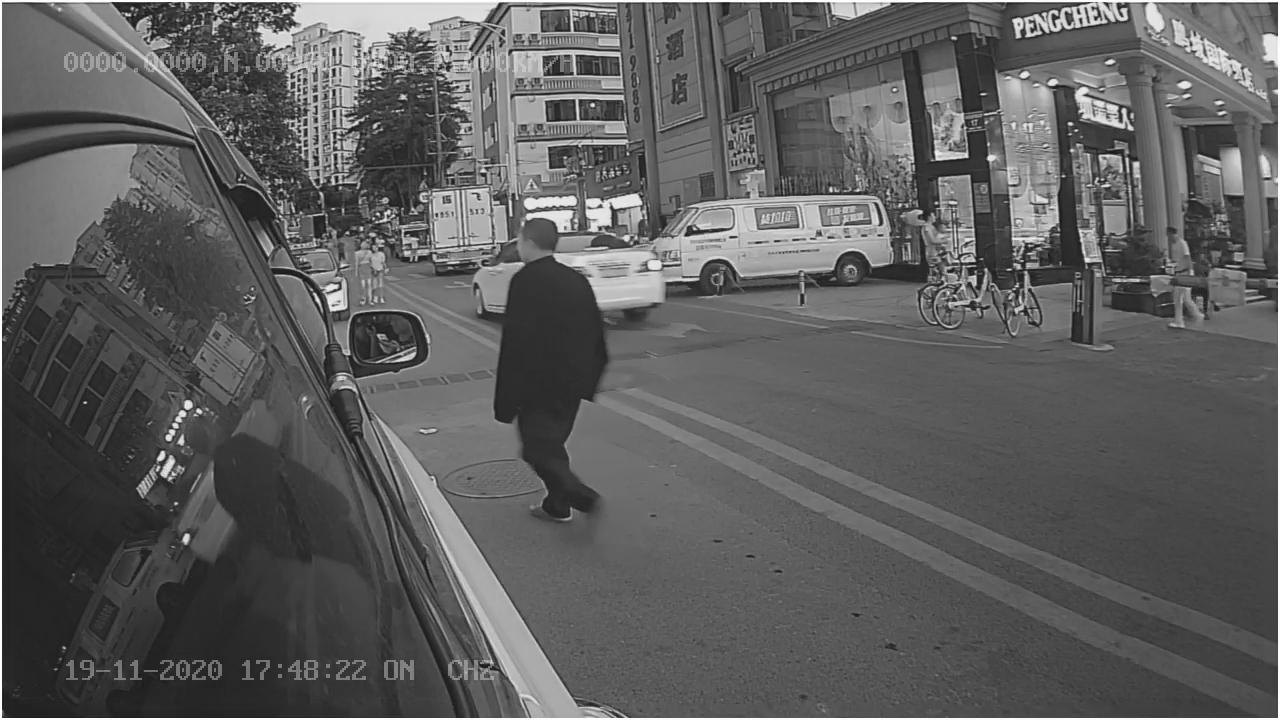person: (495, 219, 629, 539)
